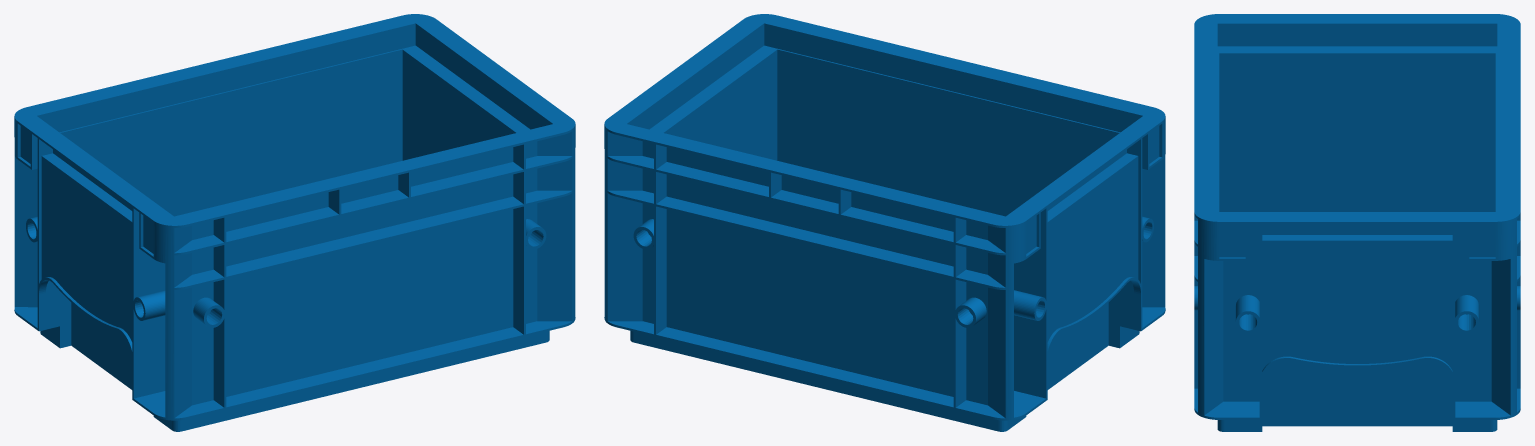
The model's file is klt.dae.
3 views of the same model, side by side, from view 1: azimuth 30°, elevation 25°; view 2: azimuth 150°, elevation 25°; view 3: azimuth 270°, elevation 25° (orthographic).
Visible parts, largest first — view 1: klt3147; view 2: klt3147; view 3: klt3147.
Boxes of the visible parts, box(x1,y1,x2,y2) form: klt3147: box(14, 14, 575, 431); klt3147: box(604, 14, 1165, 431); klt3147: box(1194, 14, 1520, 431).
Bounding box in the file's own units: 0.297 × 0.197 × 0.147.
